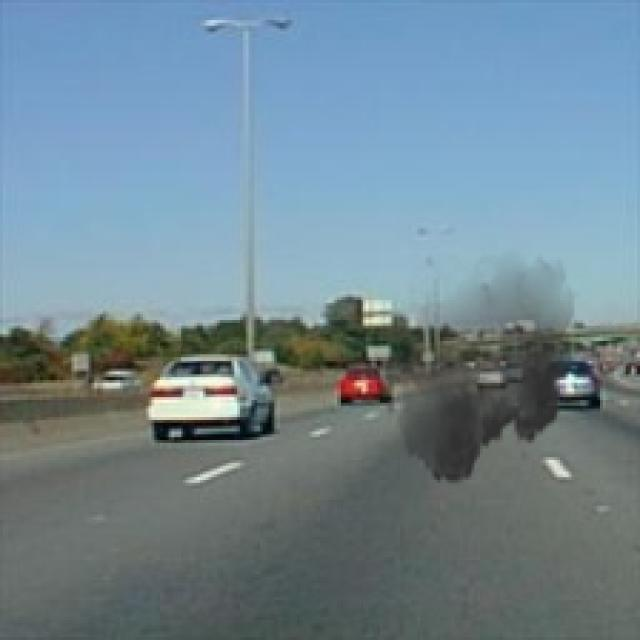Smoke: (354, 243, 580, 494)
